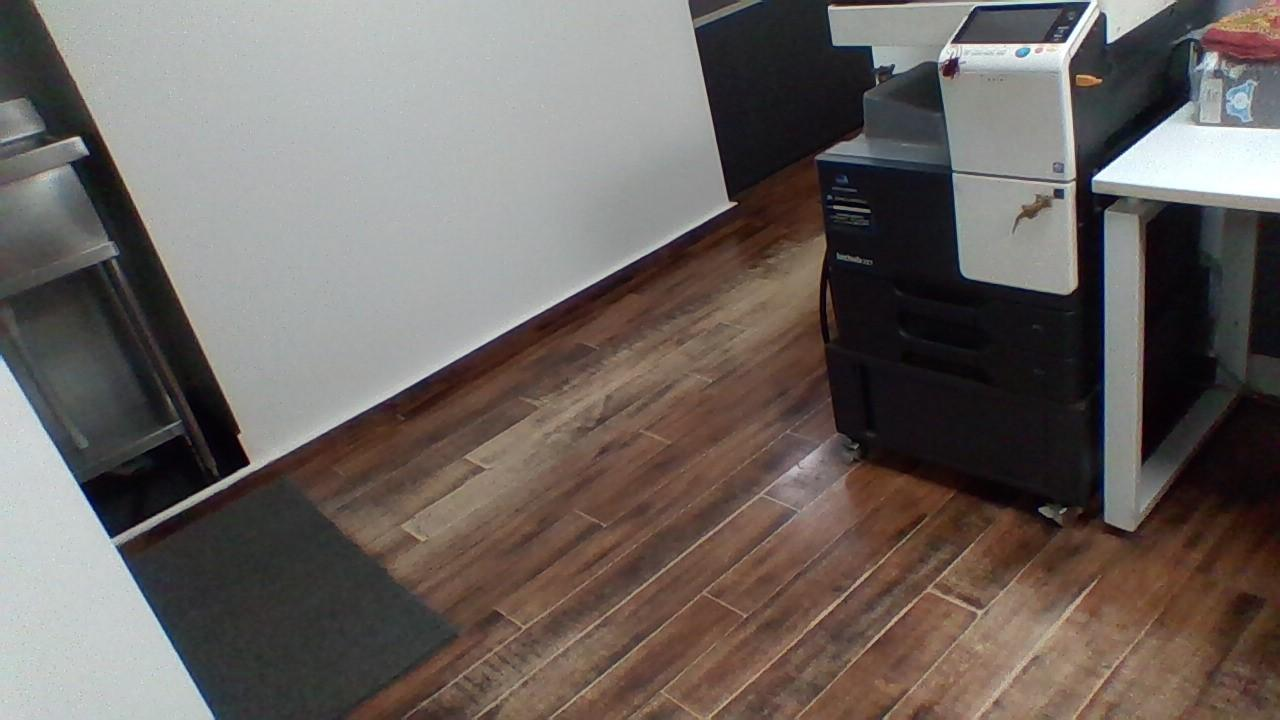cockroach: (933, 52, 966, 83)
lizard: (1007, 183, 1059, 234)
